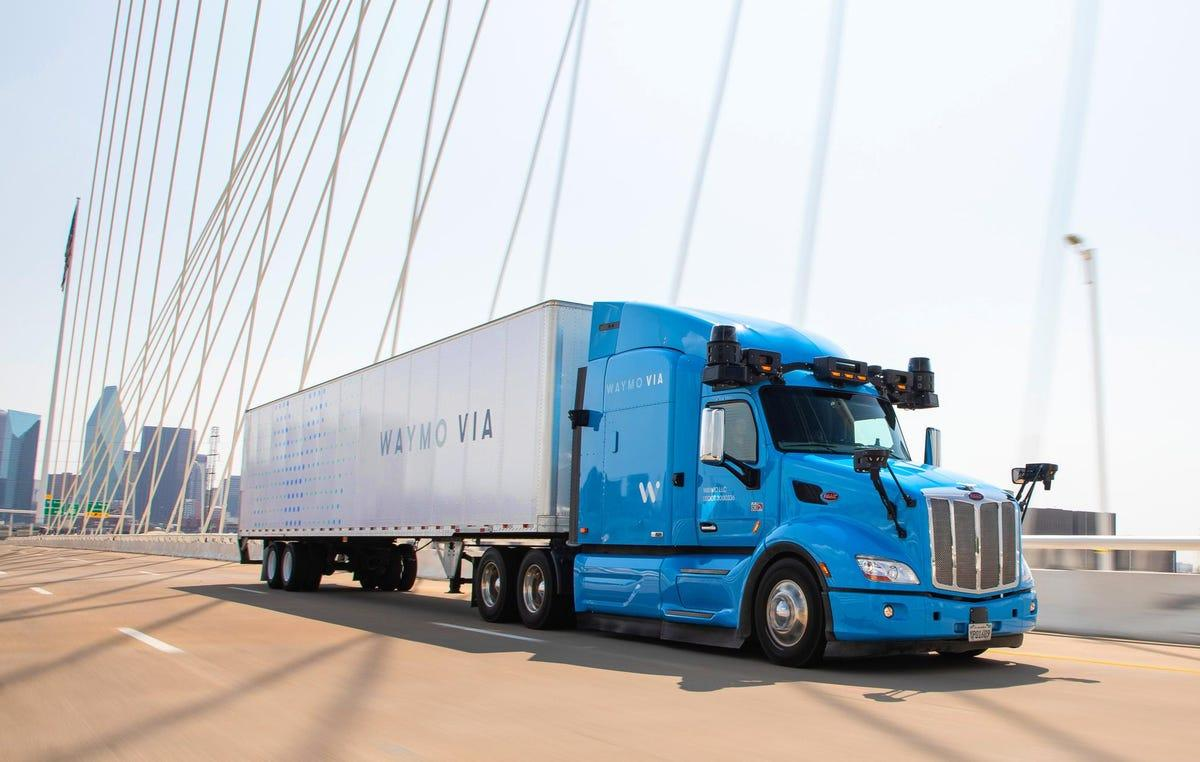truck: (237, 301, 1056, 670)
